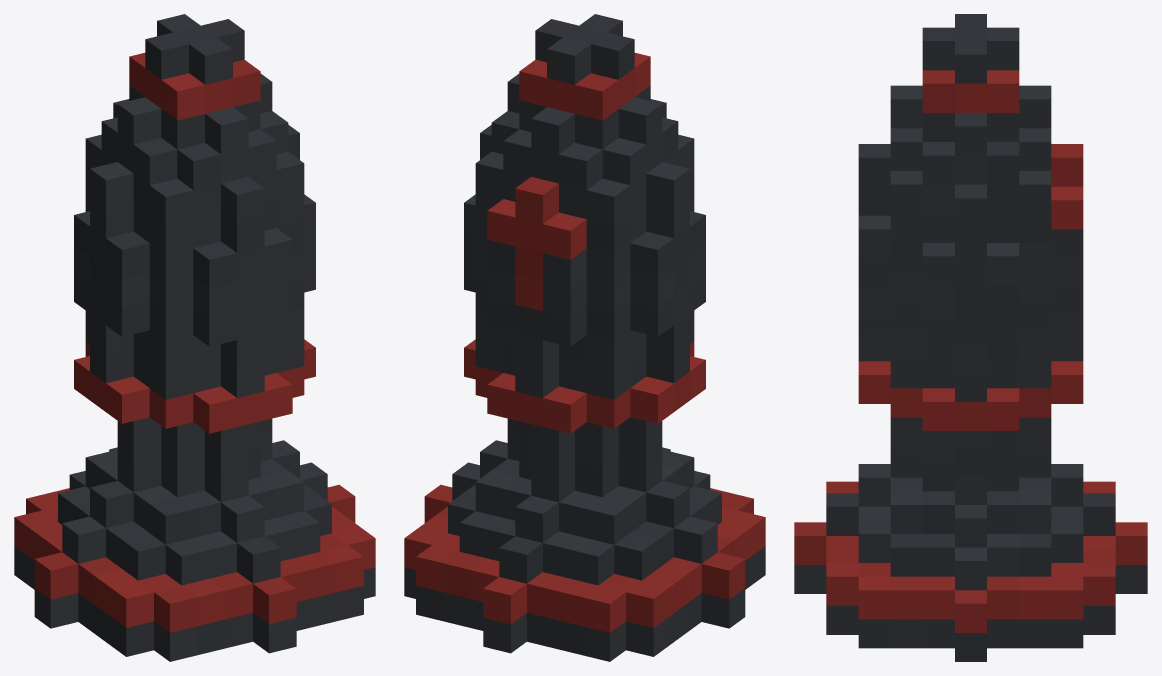
Rendered from black_bishop.glb.
3 renders of one model, left to right at view 1: azimuth 30°, elevation 25°; view 2: azimuth 150°, elevation 25°; view 3: azimuth 270°, elevation 25°, orthographic.
Bounding box in the file's own units: 1.1 × 1.9 × 1.1.
